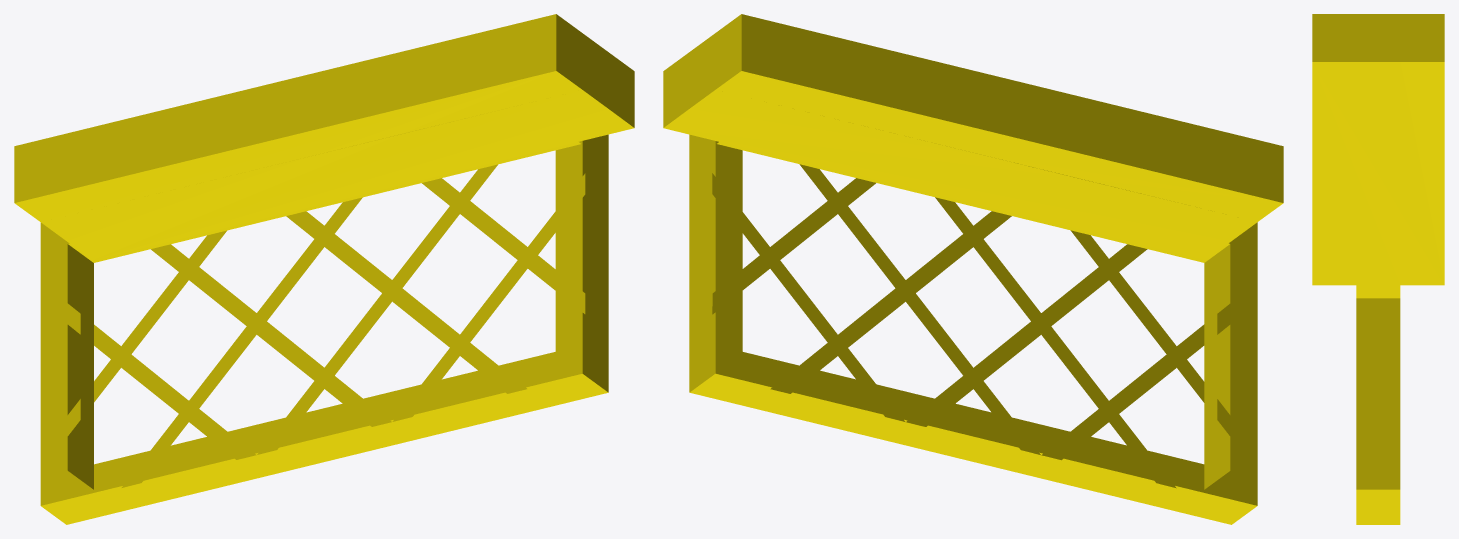
3 renders of one model, left to right at view 1: azimuth 30°, elevation 25°; view 2: azimuth 150°, elevation 25°; view 3: azimuth 270°, elevation 25°, orthographic. The views are drawn at different scales.
Visible parts, largest first — view 1: 004_L_318500_PART_1; view 2: 004_L_318500_PART_1; view 3: 004_L_318500_PART_1.
Part boxes in pixels (x1=…): 004_L_318500_PART_1: x1=14, y1=14, x2=634, y2=524; 004_L_318500_PART_1: x1=663, y1=14, x2=1283, y2=524; 004_L_318500_PART_1: x1=1312, y1=14, x2=1444, y2=524.
Bounding box in the file's own units: 3.2 × 1.92 × 0.8.
